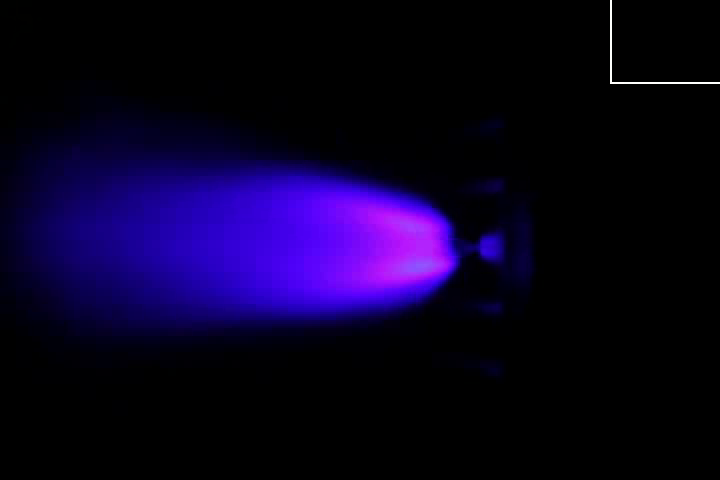burner cap: (476, 228, 506, 264)
unstable: (323, 191, 481, 295)
